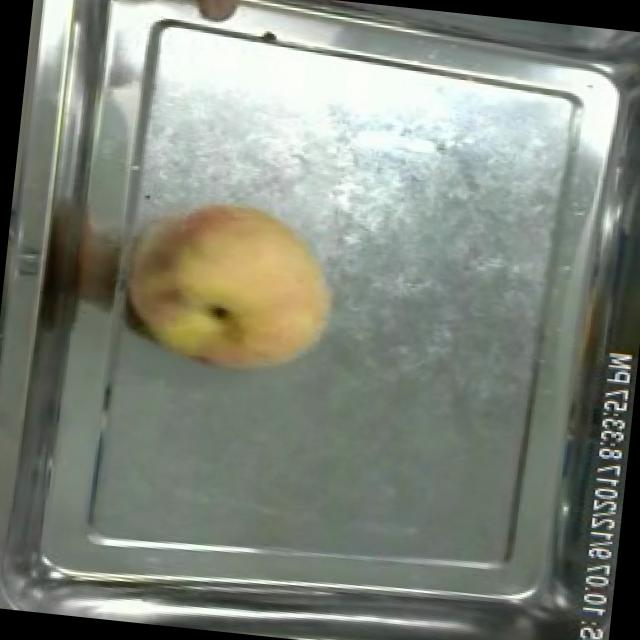Fruit: (107, 178, 350, 390), (183, 0, 269, 32)
